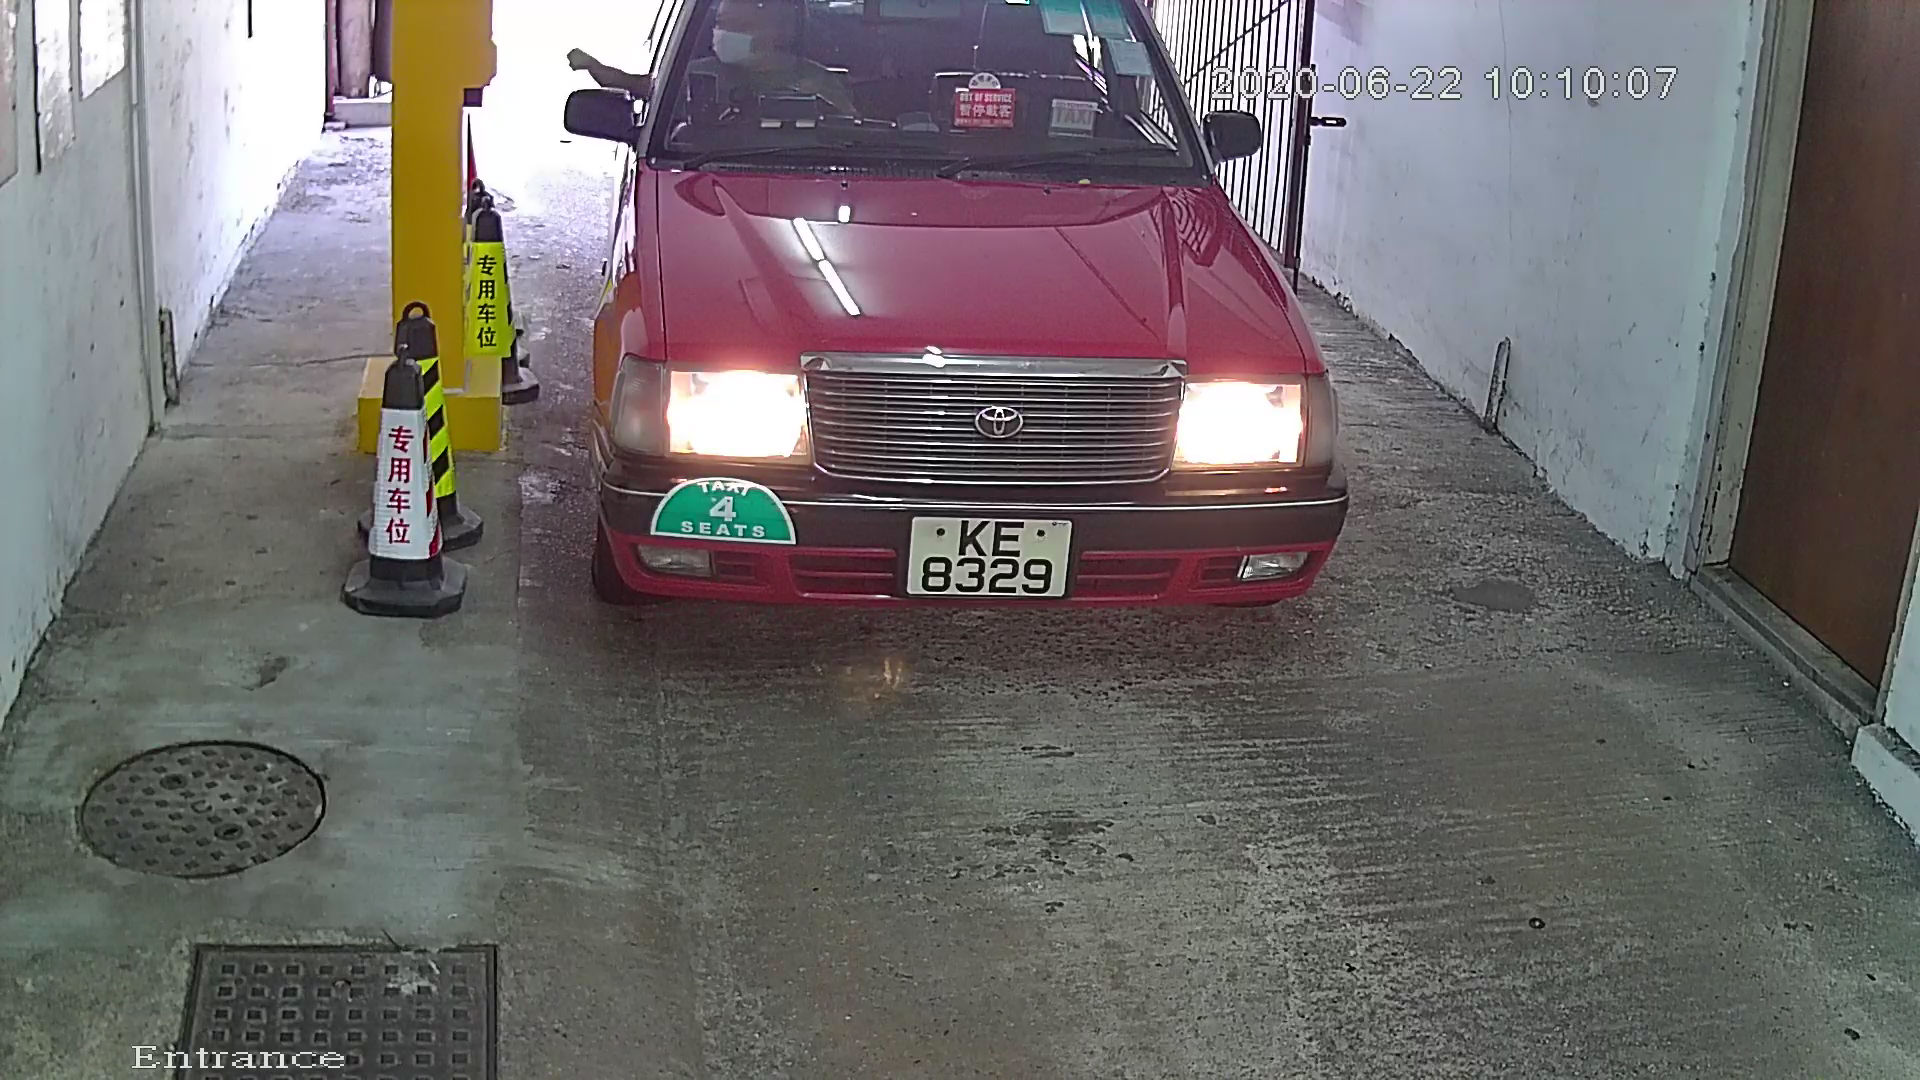taxi: (537, 3, 1468, 740)
taxi_mark: (620, 462, 822, 580)
